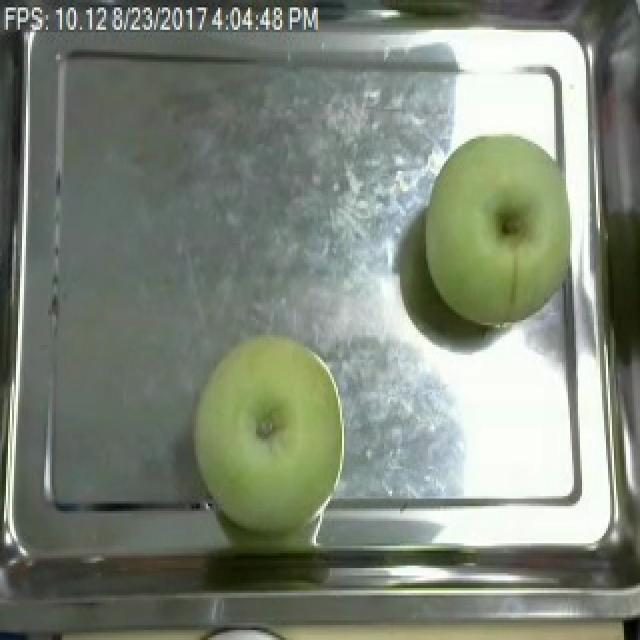50-_ripeness: (187, 334, 361, 542), (418, 120, 580, 334)
